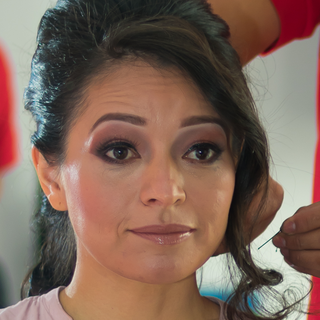eye: (90, 136, 147, 168), (174, 138, 224, 166)
